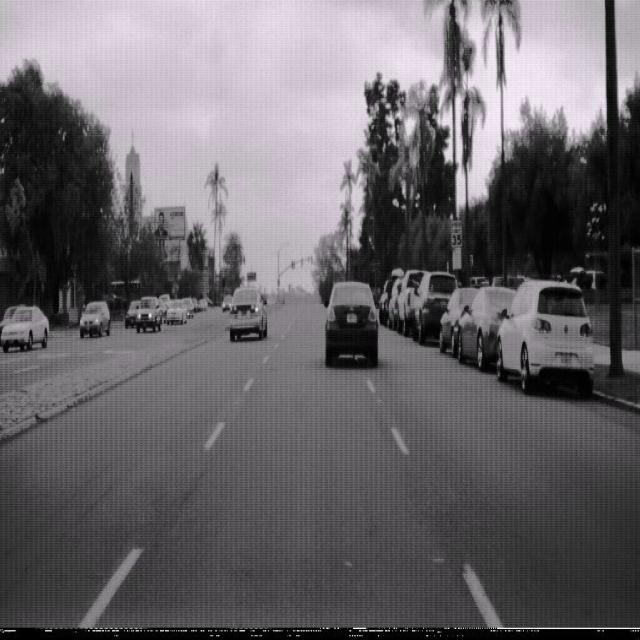speedLimit35: (450, 218, 462, 250)
